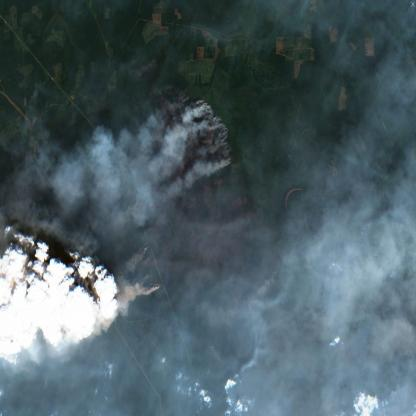fire: (180, 91, 236, 177), (104, 235, 166, 302), (263, 262, 282, 295)
